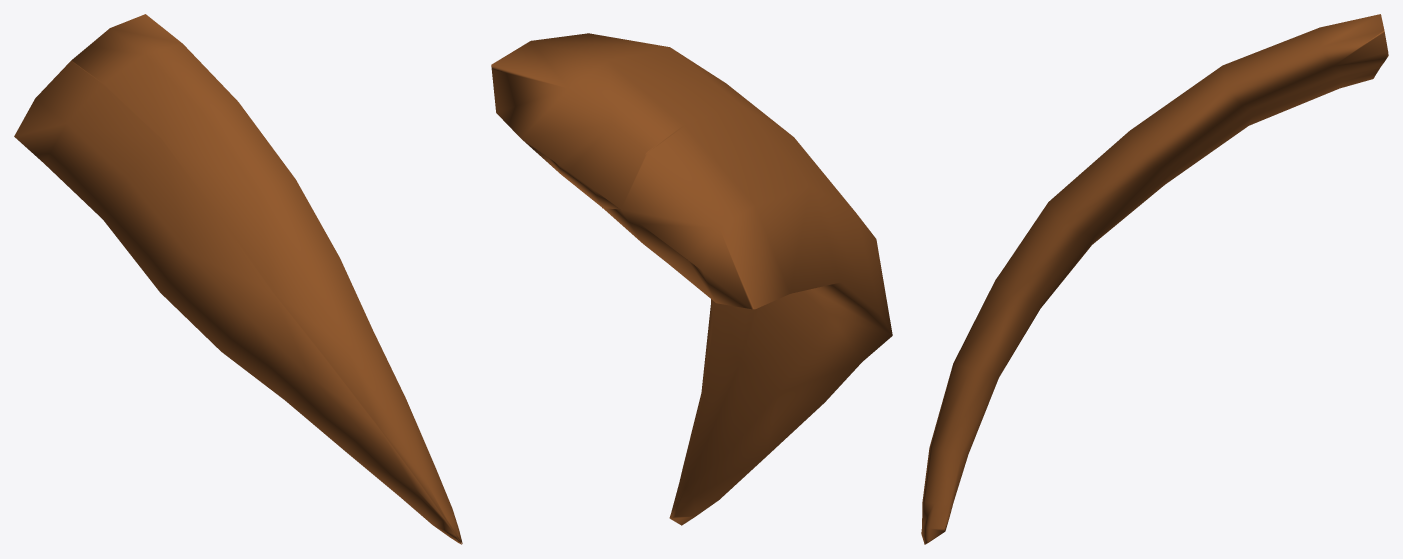
File: Hair_particles_M.fbx
The picture shows the model from 3 angles, left to right: view 1: azimuth 30°, elevation 25°; view 2: azimuth 150°, elevation 25°; view 3: azimuth 270°, elevation 25°; orthographic projection. The views are drawn at different scales.
Visible parts, largest first — view 1: Hair_particles_M; view 2: Hair_particles_M; view 3: Hair_particles_M.
Part boxes in pixels (x1,y1,x2,y2): Hair_particles_M: (14, 14, 462, 544); Hair_particles_M: (491, 33, 892, 525); Hair_particles_M: (921, 14, 1388, 544).
Size of the model in its own units: 12.24 by 19.54 by 18.21.
Materials: 1 (1 with a texture image).
